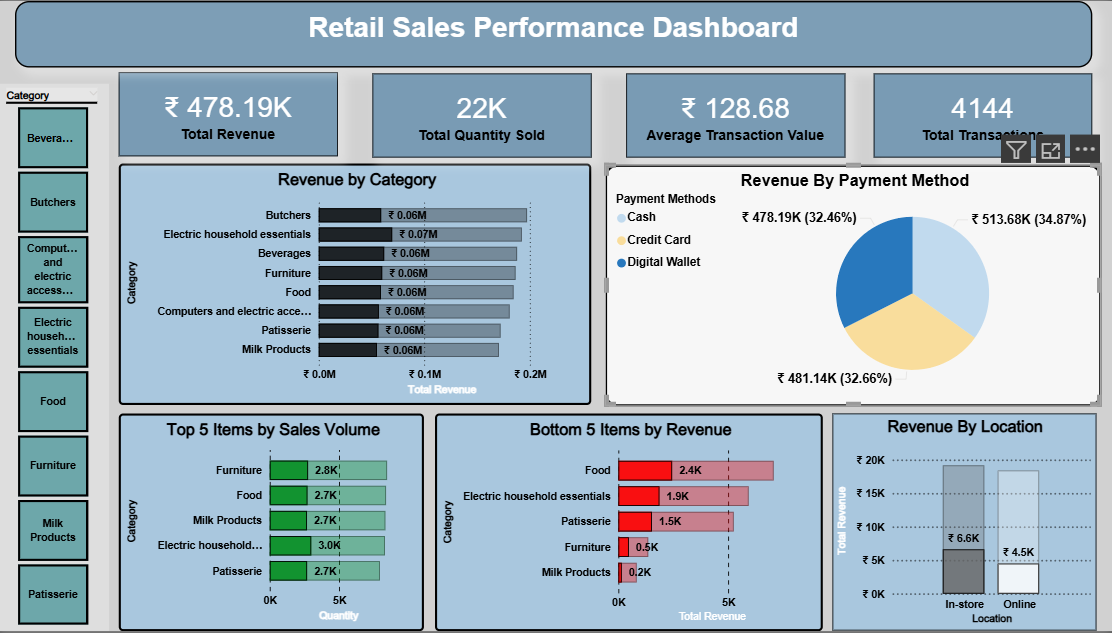

The dashboard page shown, as its layout file describes it:
{"tool":"powerbi","page":{"name":"Page 2","canvas":[1280,720],"ordinal":0},"visuals":[{"type":"card","fields":{"Values":["Sum(public retail_sale.new_total)"]},"box":[141.4,81.4,250,95.7],"z":0},{"type":"clusteredBarChart","title":"Revenue by Category","fields":{"Category":["public retail_sale.category"],"Y":["Sum(public retail_sale.new_total)"]},"box":[141.4,185.7,540,275.7],"z":0},{"type":"textbox","box":[22.9,0,1231.4,75.7],"z":1},{"type":"clusteredBarChart","title":"Top 5 Items by Sales Volume","fields":{"Category":["public retail_sale.category"],"Y":["Sum(public retail_sale.quantity)"]},"box":[141.4,471.4,348.6,248.6],"z":3},{"type":"clusteredBarChart","title":"Bottom 5 Items by Revenue","fields":{"Category":["public retail_sale.category"],"Y":["Sum(public retail_sale.new_total)"]},"box":[502.9,471.4,442.9,248.6],"z":4},{"type":"clusteredColumnChart","title":"Revenue By Location","fields":{"Category":["public retail_sale.location"],"Y":["Sum(public retail_sale.new_total)"]},"box":[956.7,471.7,301.7,248.3],"z":5},{"type":"slicer","fields":{"Values":["public retail_sale.category"]},"box":[0,94.3,130,625.7],"z":6},{"type":"card","fields":{"Values":["Count(public retail_sale.transaction_id)"]},"box":[1004.4,82.9,249.9,95.7],"z":1000},{"type":"card","fields":{"Values":["Avg(public retail_sale.new_total)"]},"box":[721.4,82.9,250,95.7],"z":2000},{"type":"card","fields":{"Values":["Sum(public retail_sale.quantity)"]},"box":[431.4,82.9,250,95.7],"z":3000},{"type":"pieChart","title":"Revenue By Payment Method","fields":{"Category":["public retail_sale.payment_method"],"Y":["Sum(public retail_sale.new_total)"]},"box":[697.4,187.1,566.9,275.7],"z":7000}]}

Visuals, with their boxes in screenshot pixels (x1, y1, x2, y2), scaled from the page's 1280x720 canvas onto the 1112x633 screenshot:
card - Sum(public retail_sale.new_total): crop(123, 72, 340, 156)
"Revenue by Category" clusteredBarChart: crop(123, 163, 592, 406)
textbox: crop(20, 0, 1090, 67)
"Top 5 Items by Sales Volume" clusteredBarChart: crop(123, 414, 426, 632)
"Bottom 5 Items by Revenue" clusteredBarChart: crop(437, 414, 822, 632)
"Revenue By Location" clusteredColumnChart: crop(831, 415, 1093, 632)
slicer - public retail_sale.category: crop(0, 83, 113, 632)
card - Count(public retail_sale.transaction_id): crop(873, 73, 1090, 157)
card - Avg(public retail_sale.new_total): crop(627, 73, 844, 157)
card - Sum(public retail_sale.quantity): crop(375, 73, 592, 157)
"Revenue By Payment Method" pieChart: crop(606, 164, 1098, 407)
